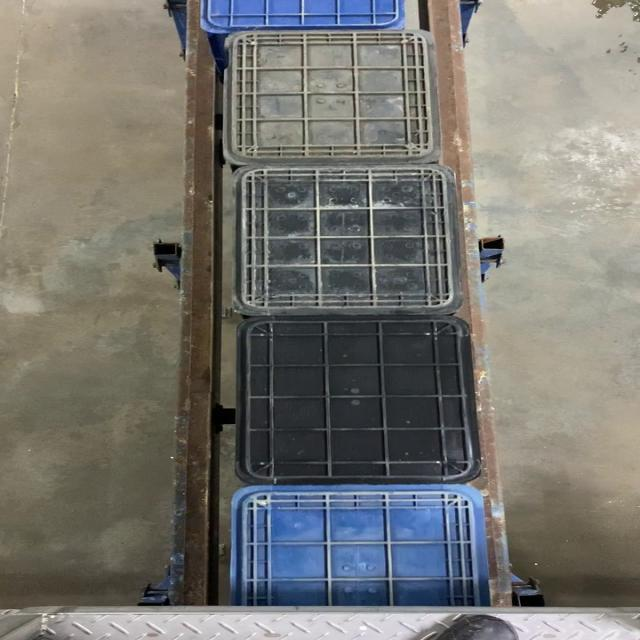Box: (229, 316, 480, 486), (228, 164, 468, 315), (221, 30, 447, 164)
